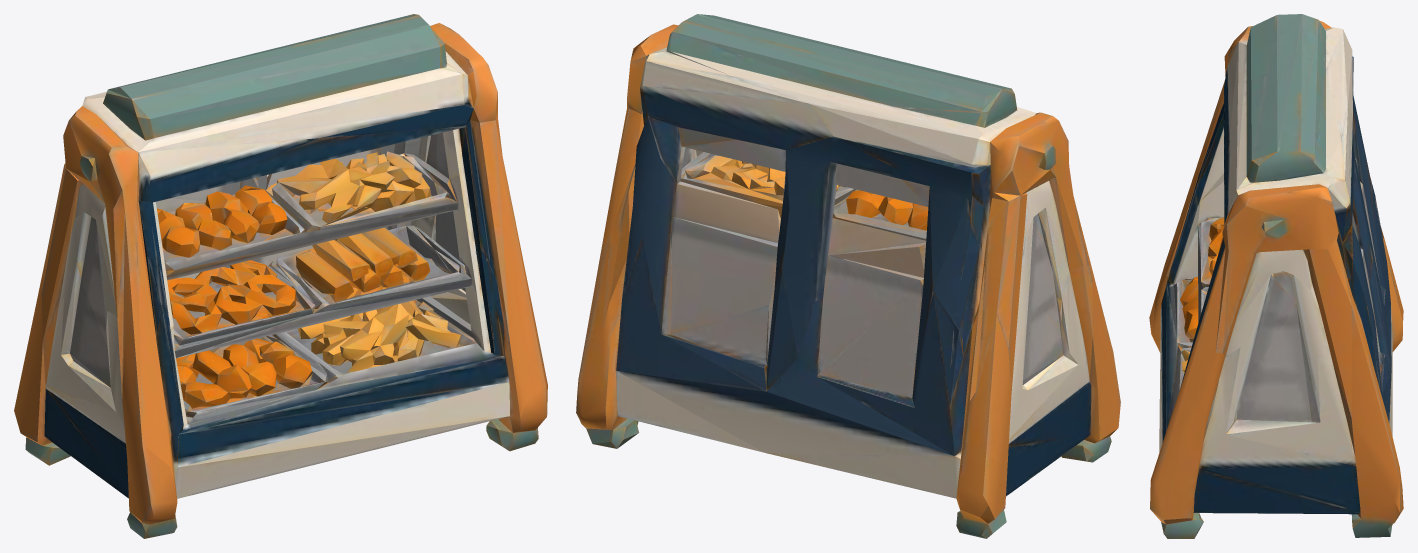
The model's file is pastryCase.glb.
3 renders of one model, left to right at view 1: azimuth 30°, elevation 25°; view 2: azimuth 150°, elevation 25°; view 3: azimuth 270°, elevation 25°, orthographic. The views are drawn at different scales.
Parts seen in each view (by area): view 1: Mesh_0; view 2: Mesh_0; view 3: Mesh_0.
Boxes of the visible parts, box(x1,y1,x2,y2) form: Mesh_0: box(14, 14, 547, 538); Mesh_0: box(576, 14, 1120, 538); Mesh_0: box(1149, 14, 1403, 538).
Size of the model in its own units: 1.31 by 1.19 by 0.7501.
Materials: 1 (1 with a texture image).
